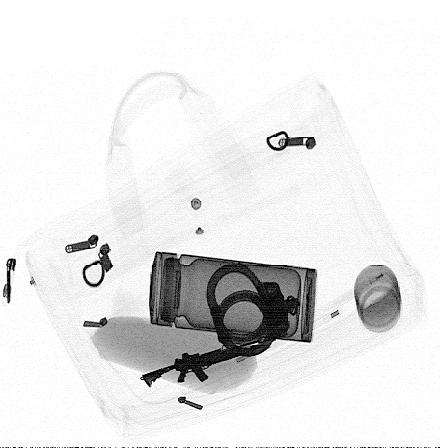Gun: (141, 342, 268, 388)
HandCuffs: (208, 261, 301, 357)
